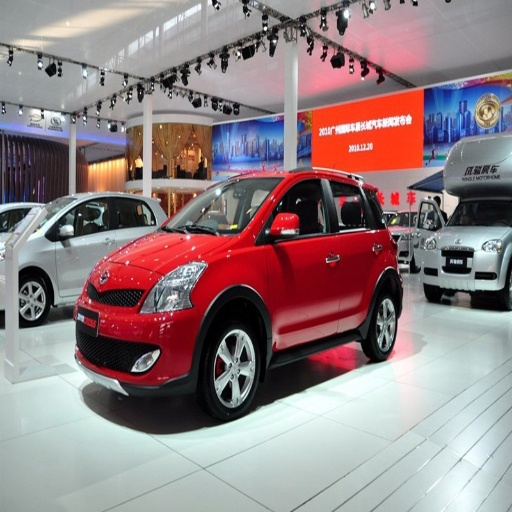back_glass: (440, 2, 500, 60)
front_bumper: (74, 278, 206, 390)
front_glass: (160, 179, 276, 234)
front_left_door: (262, 177, 338, 338)
tailgate: (438, 58, 510, 113)
